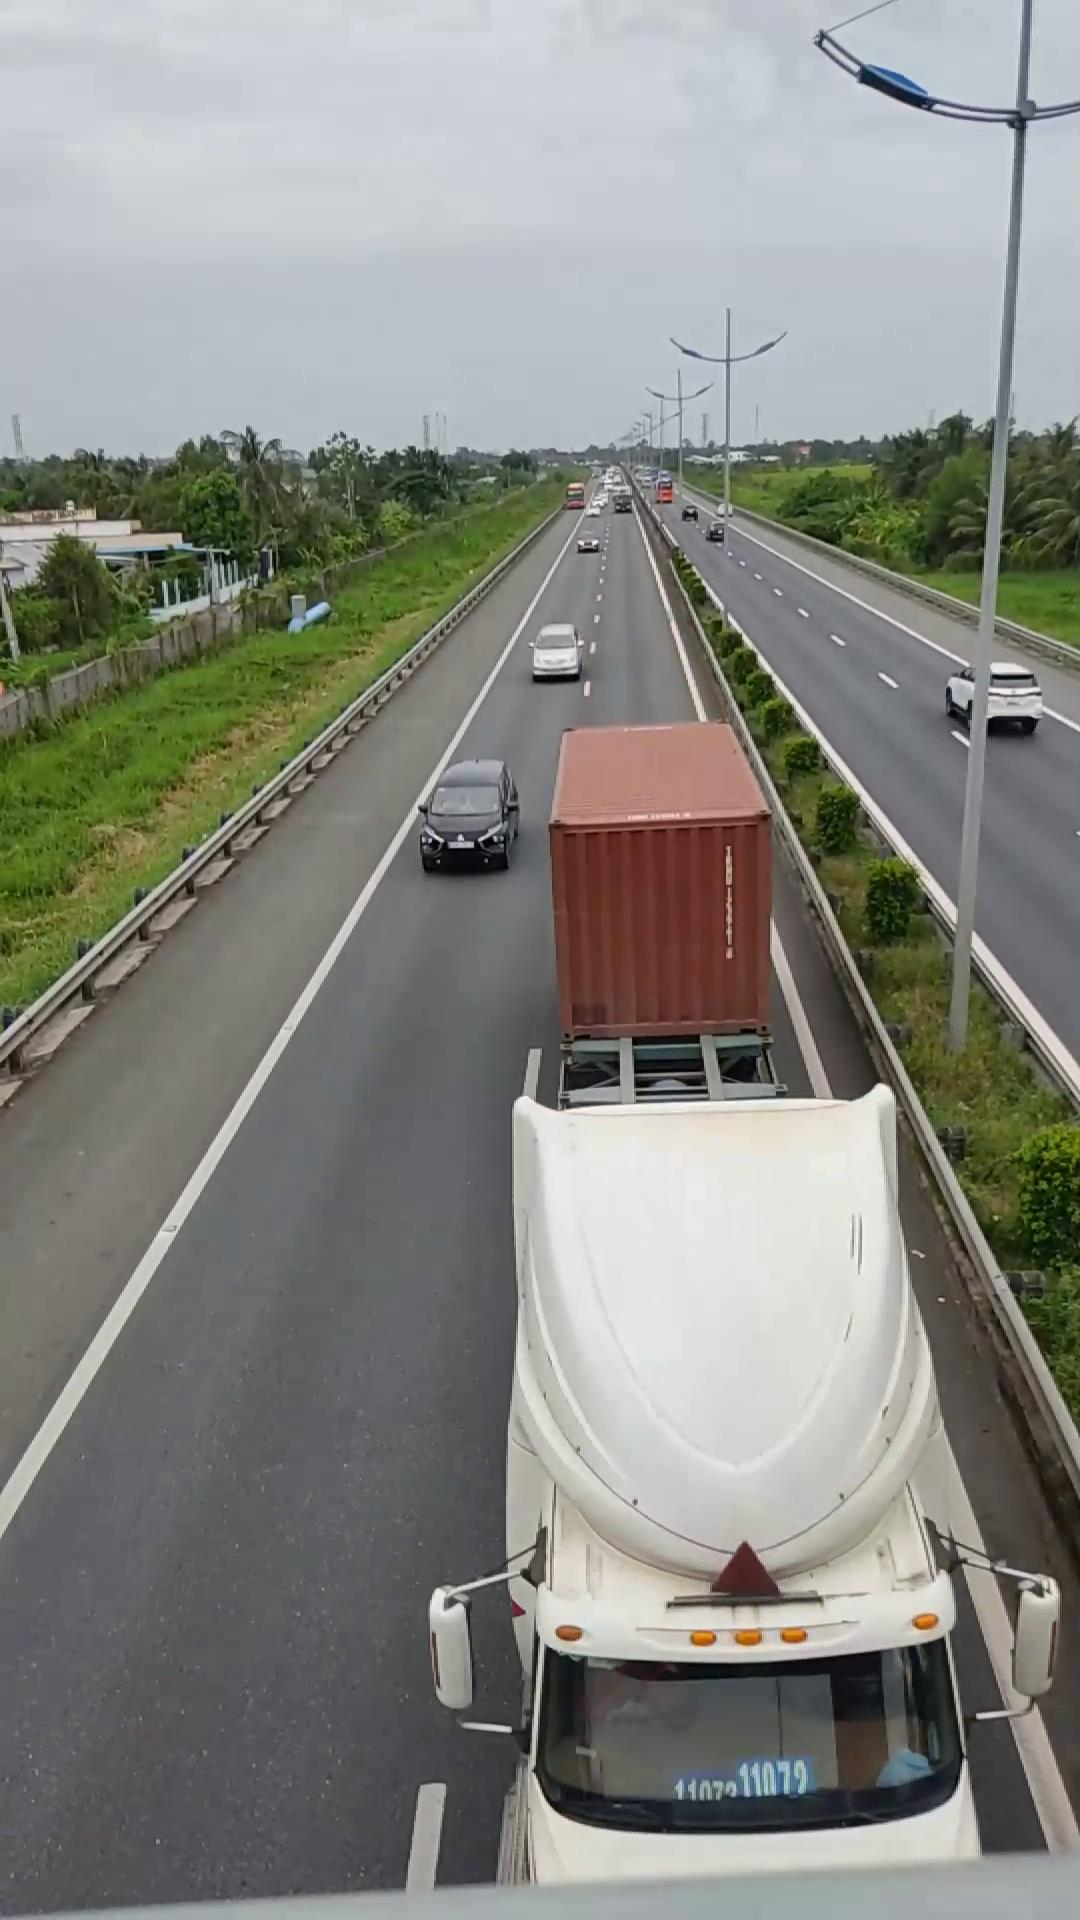car: (415, 756, 521, 870)
container: (471, 711, 982, 1887)
